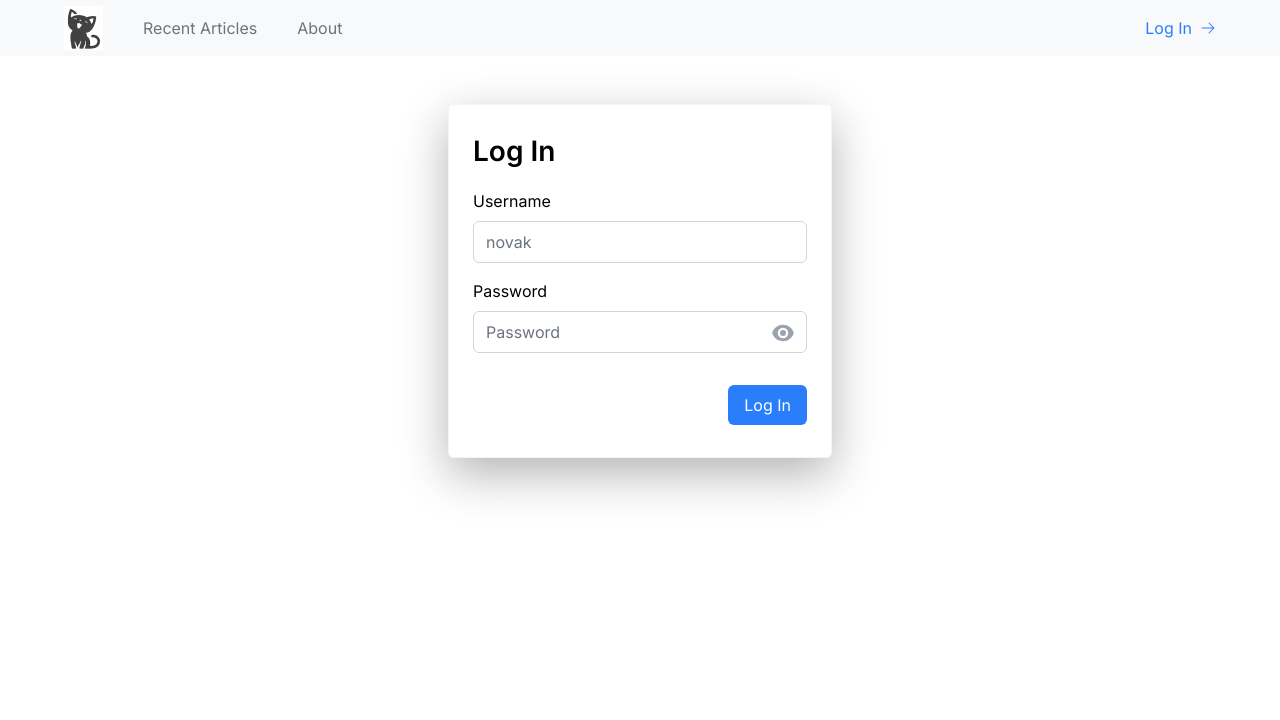
Test: Login › should require username and password
Click the submit button: [768, 405] box [728,385,807,425]
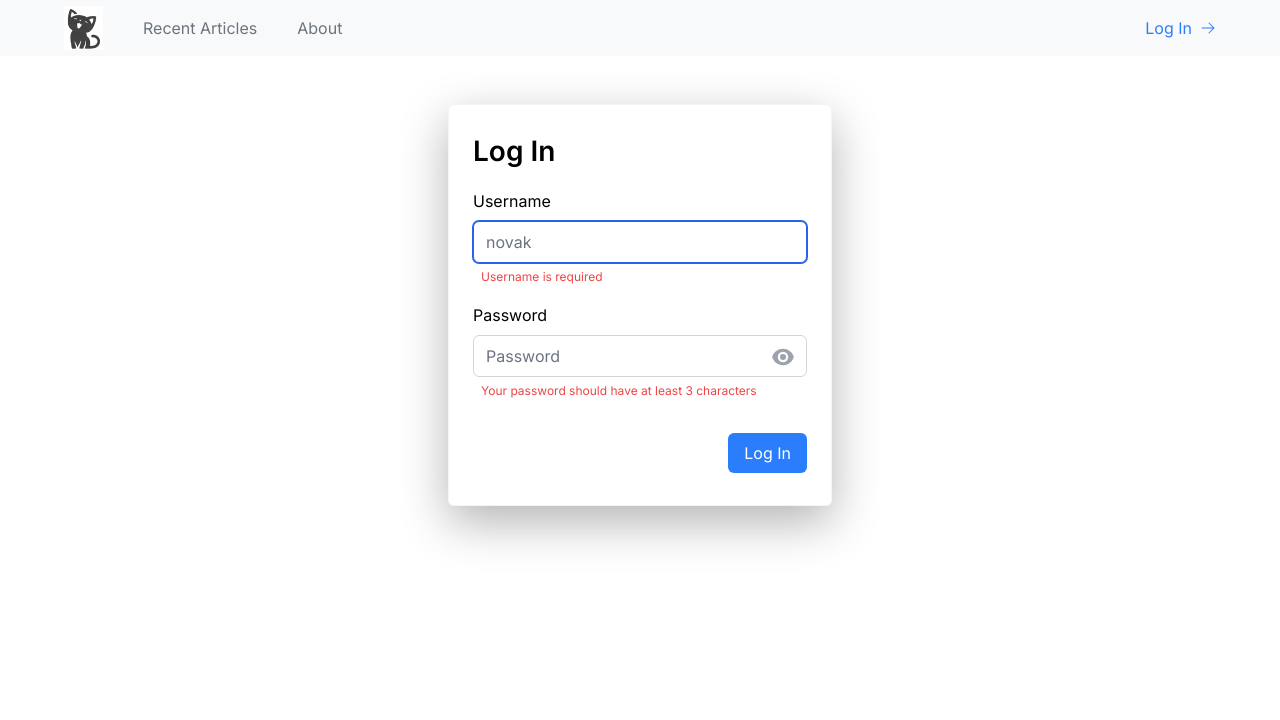
Expected: the text "Username is required" is shown, [473,267,611,286]
Expected: the text "Your password should have at least 3 characters" is shown, [473,381,765,400]
